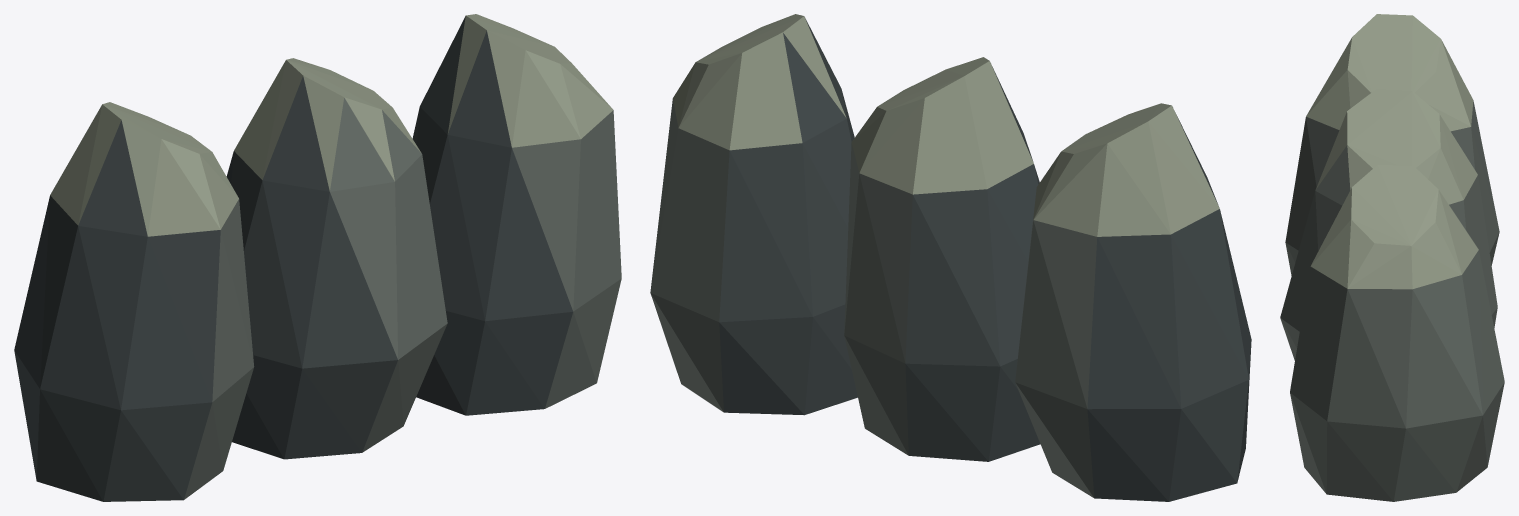
Rendered from TW_ROCK_SPLIT_MASS_B_LOD0.glb.
3 views of the same model, side by side, from view 1: azimuth 30°, elevation 25°; view 2: azimuth 150°, elevation 25°; view 3: azimuth 270°, elevation 25° (orthographic). The views are drawn at different scales.
Parts seen in each view (by area): view 1: TW_ROCK_SPLIT_MASS_B_LOD0; view 2: TW_ROCK_SPLIT_MASS_B_LOD0; view 3: TW_ROCK_SPLIT_MASS_B_LOD0.
Boxes of the visible parts, x1,y1,x2,y2 form: TW_ROCK_SPLIT_MASS_B_LOD0: (14,14,621,501); TW_ROCK_SPLIT_MASS_B_LOD0: (650,14,1251,501); TW_ROCK_SPLIT_MASS_B_LOD0: (1280,14,1504,501).
Size of the model in its own units: 1.96 by 1.16 by 0.7963.
1 material, 1 textured.
